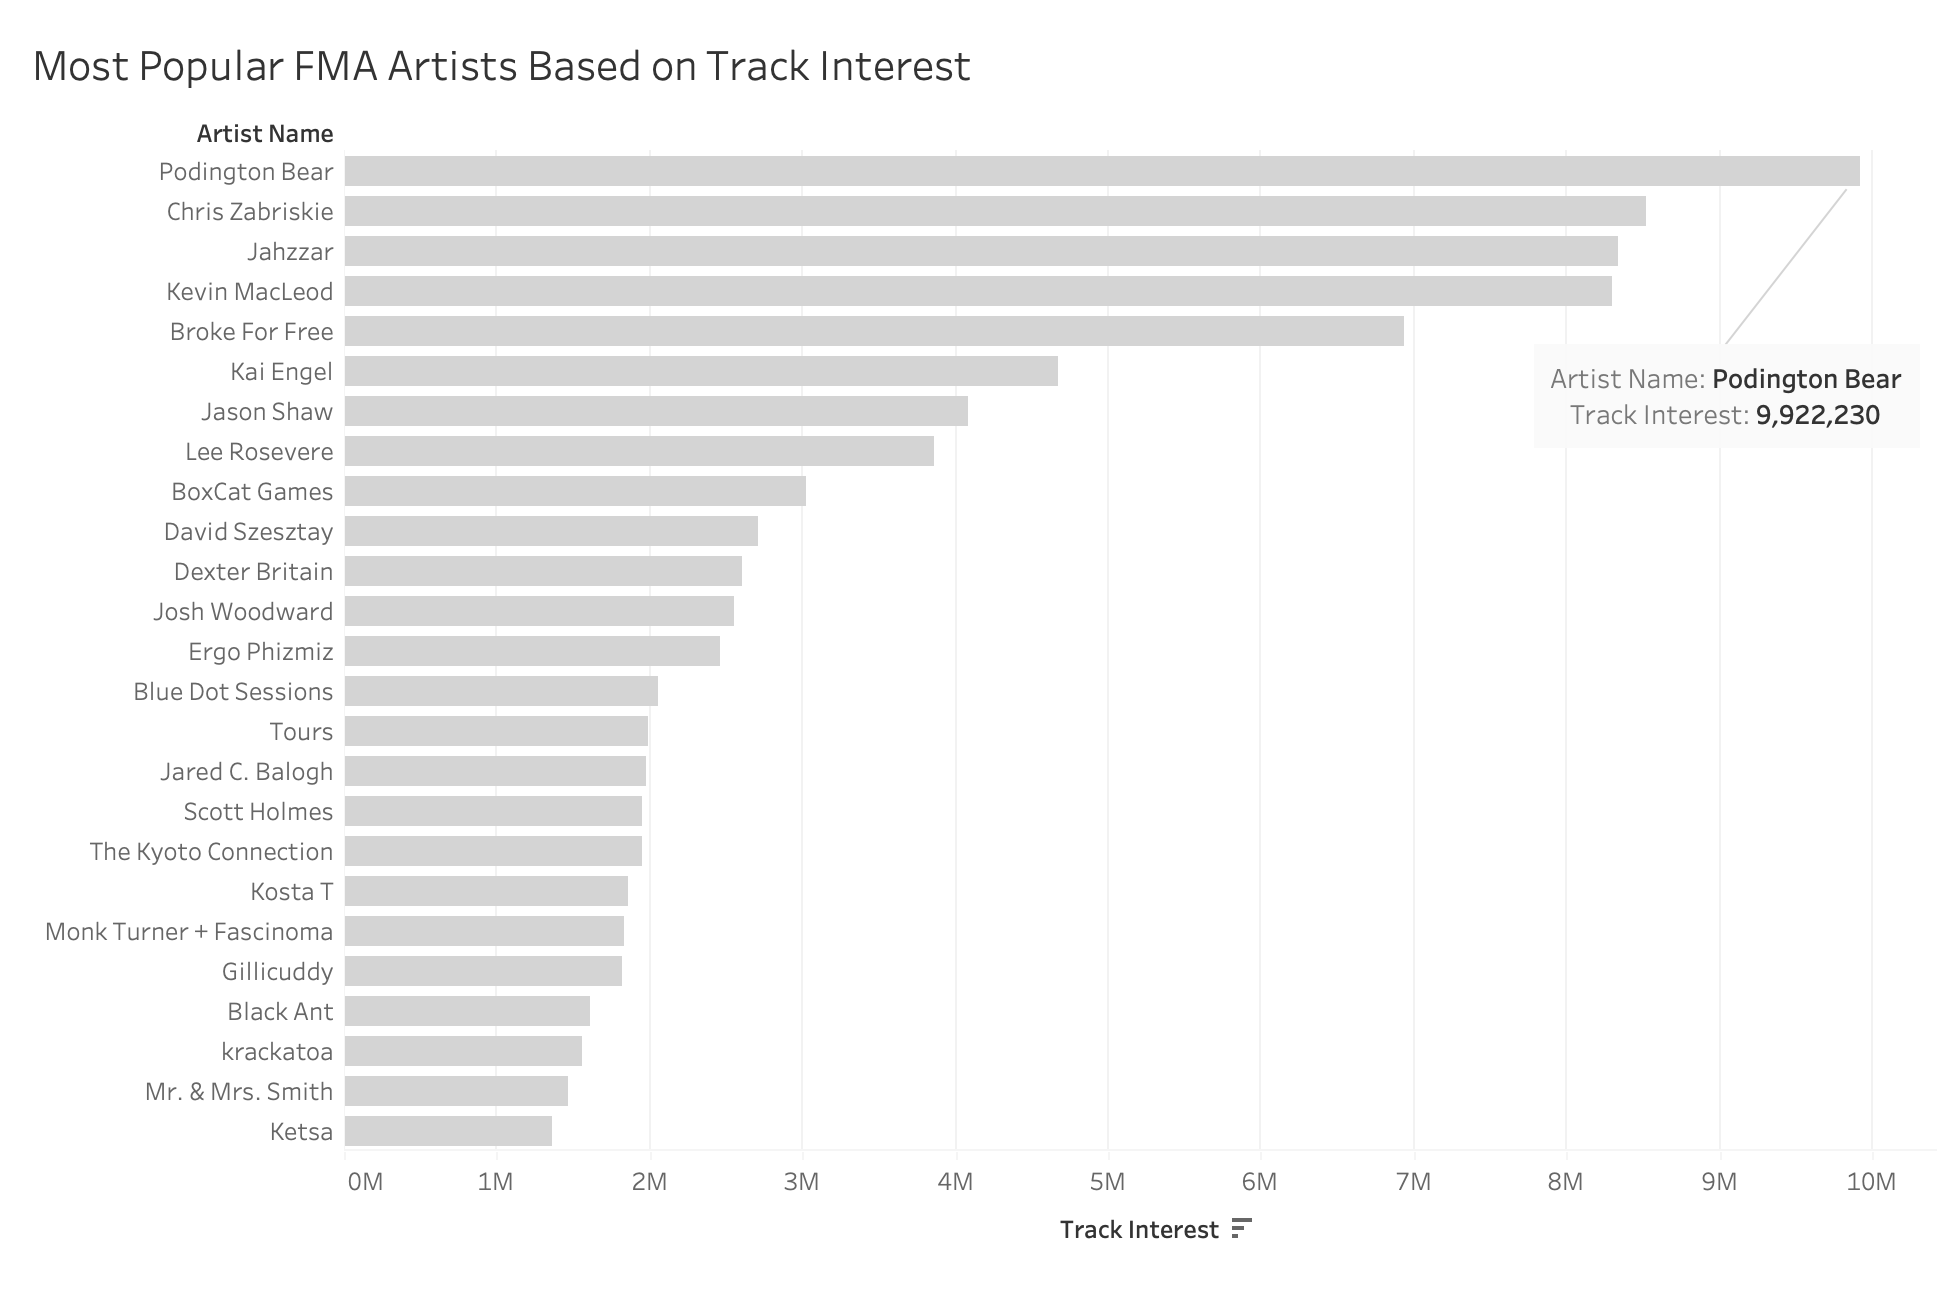

This screenshot's page, from the dashboard's own definition file:
{"tool":"tableau","page":{"name":"Dashboard 1 (2)","canvas":[1600,900],"ordinal":1},"visuals":[{"type":"worksheet","title":"Sheet 1","mark":"Automatic","box":[8,8,1584,884]}]}

Visuals, with their boxes on the page's 1600x900 design canvas (x1, y1, x2, y2). These are canvas units, not pixel positions in the 1960x1300 screenshot, which may show the page scaled, cropped or inside an application window:
"Sheet 1" worksheet: <region>8, 8, 1592, 892</region>
